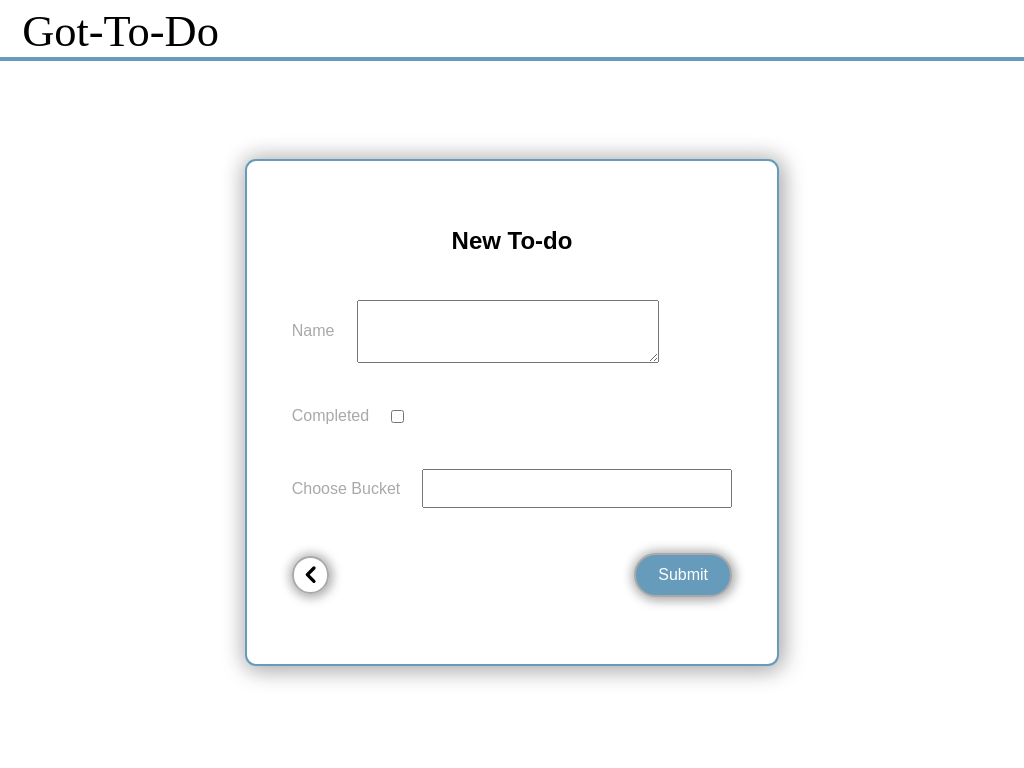
it: shows error on form invalid
Click the button with test id "submit-todo": {"x": 683, "y": 575} [634,553,732,597]
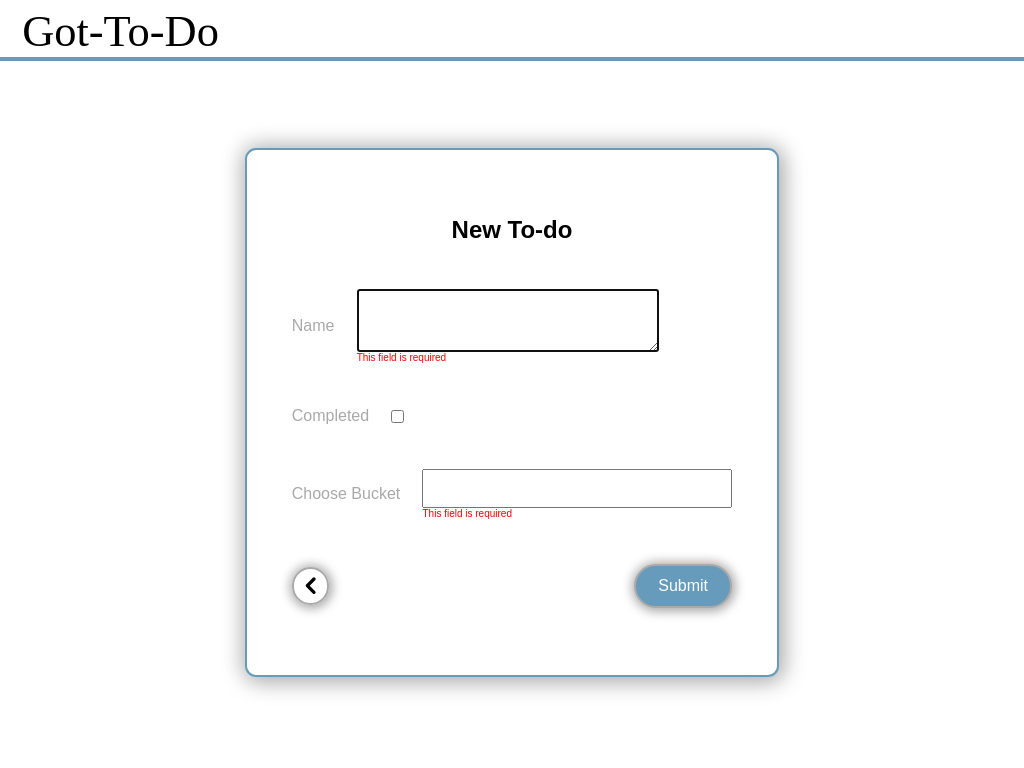
Check: the text "This field is required" is shown 2 times, box [357,352,446,363]; [422,508,512,519]
